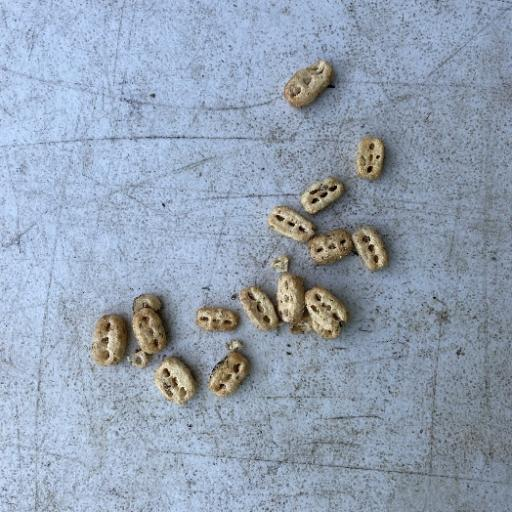Waste: (89, 56, 393, 404), (282, 58, 334, 110), (303, 285, 349, 340), (152, 354, 196, 406), (90, 313, 128, 367), (207, 350, 249, 398), (238, 284, 278, 332), (266, 204, 314, 244), (130, 306, 167, 356), (299, 175, 345, 215), (350, 224, 388, 272), (354, 135, 385, 181), (194, 306, 238, 333)
